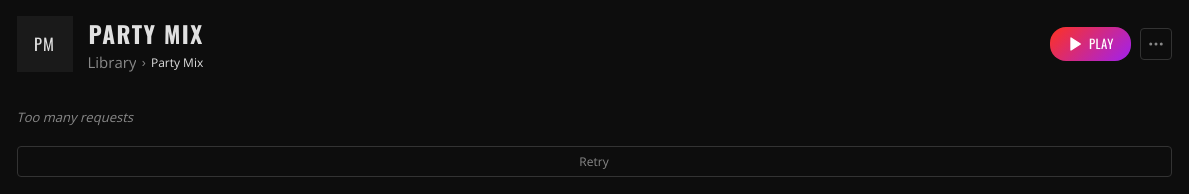
PlaylistDetailView load failure (#139) › reloads the playlist detail when Retry is clicked
The image size is (1189, 194).
Click the button with class "retry-btn". click: click(594, 162)
box: [16,146,1172,177]
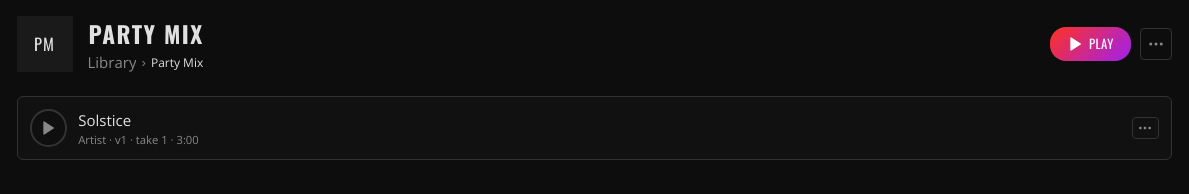
Result: the button with class "retry-btn" is gone
Result: the text "Solstice" is shown at [78,110,131,130]
